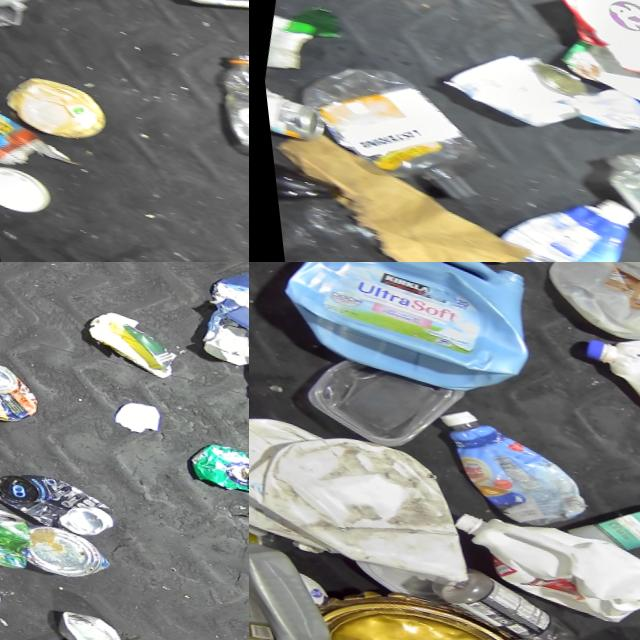can: (437, 36, 586, 138), (0, 464, 112, 543), (9, 522, 106, 586), (176, 437, 249, 502), (259, 89, 325, 148), (155, 0, 249, 36), (0, 356, 40, 428), (39, 607, 123, 640), (0, 501, 29, 570)
milk_jug: (249, 410, 483, 587), (426, 502, 640, 634), (249, 400, 359, 555), (558, 310, 640, 452), (526, 262, 640, 356)
non_white_jug: (256, 262, 546, 406), (470, 171, 637, 262), (249, 508, 339, 640)
plastic_bottle: (404, 557, 592, 640), (195, 48, 249, 170), (249, 476, 321, 561)
